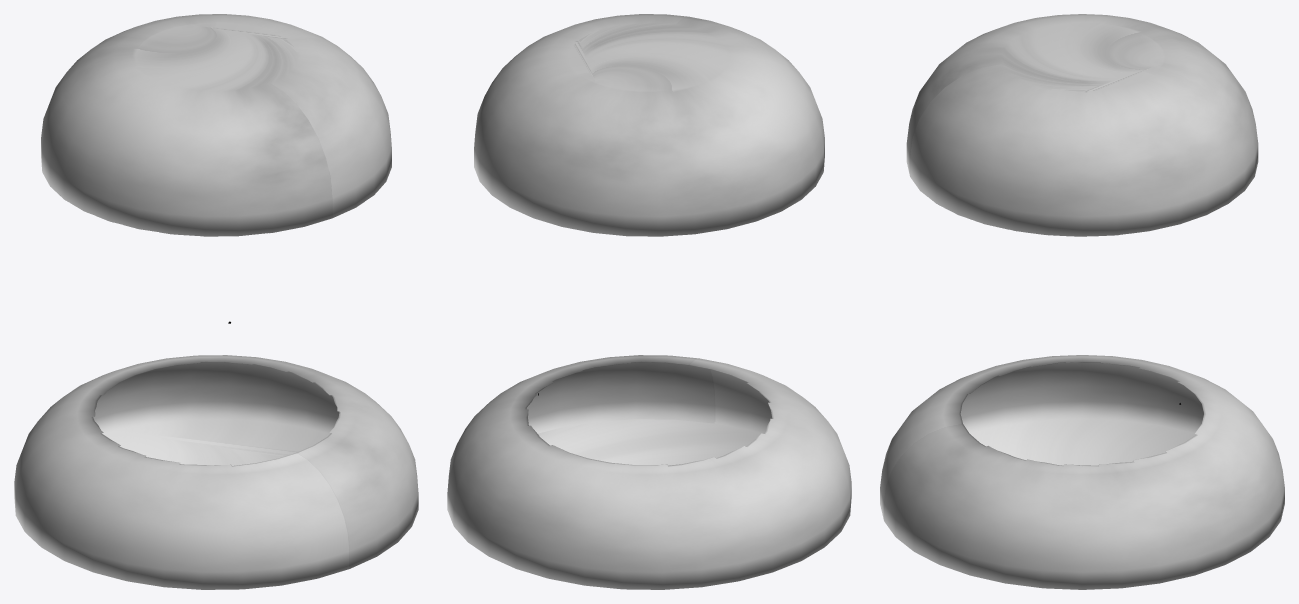
Rendered from AlarmLight.fbx.
3 views of the same model, side by side, from view 1: azimuth 30°, elevation 25°; view 2: azimuth 150°, elevation 25°; view 3: azimuth 270°, elevation 25° (orthographic).
Parts seen in each view (by area): view 1: Cylinder; view 2: Cylinder; view 3: Cylinder.
Part boxes in pixels (left/top/right/bottom): Cylinder: left=14, top=14, right=418, bottom=589; Cylinder: left=447, top=14, right=851, bottom=589; Cylinder: left=880, top=14, right=1284, bottom=589.
Bounding box in the file's own units: 200 × 244 × 200.
